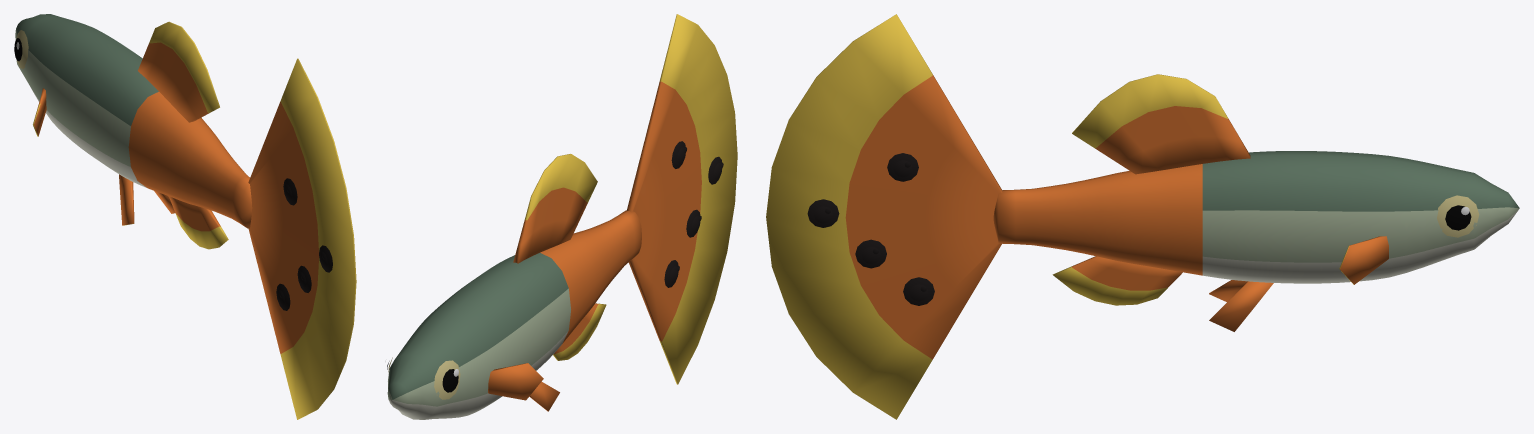
The model's file is guppy.glb.
3 views of the same model, side by side, from view 1: azimuth 30°, elevation 25°; view 2: azimuth 150°, elevation 25°; view 3: azimuth 270°, elevation 25° (orthographic). The views are drawn at different scales.
Visible parts, largest first — view 1: guppy; view 2: guppy; view 3: guppy.
Boxes of the visible parts, x1=… form: guppy: x1=14, y1=14, x2=356, y2=419; guppy: x1=385, y1=14, x2=737, y2=419; guppy: x1=766, y1=14, x2=1519, y2=419.
Bounding box in the file's own units: 0.5483 × 1.4 × 2.37.
